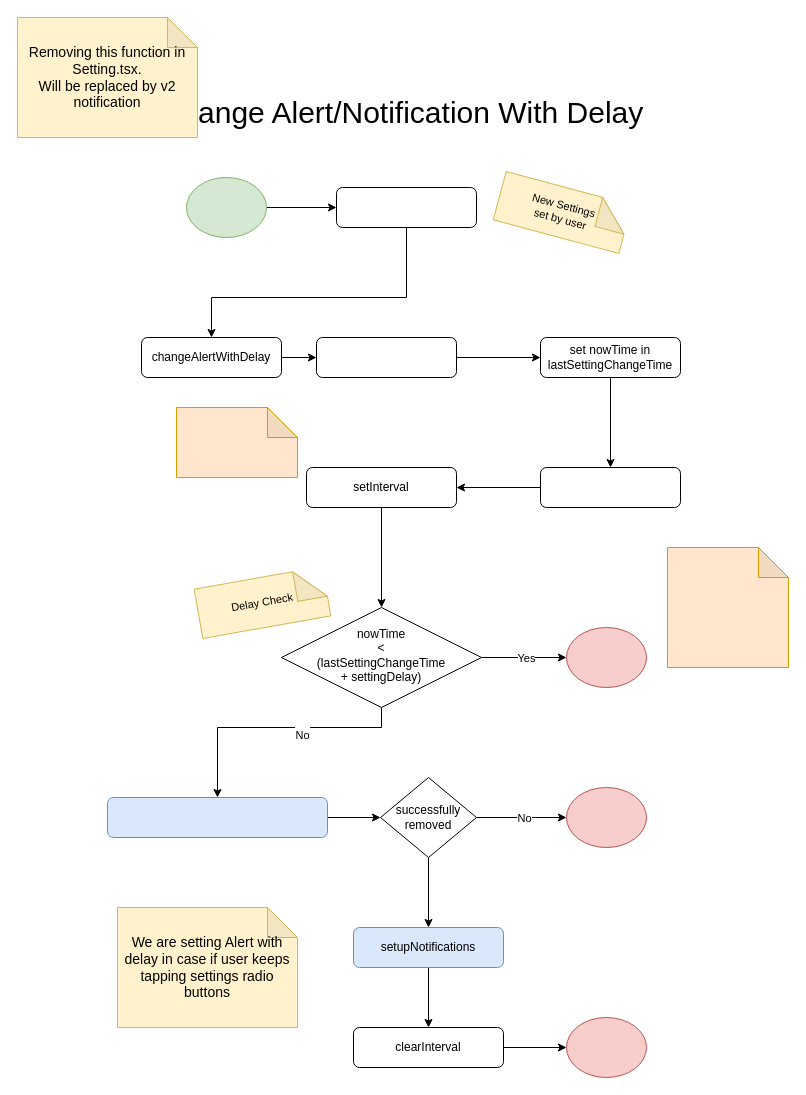
Some shapes in this 806 by 1095 pixel diagram are drawn without their labels. The shapes that lost their labels are listed below. From the top down, each one's box as (x1, y1, x2, y2) in pixels, then its label:
(336, 186, 476, 228): newSettings
(316, 336, 456, 378): storeDispatchSetting
(176, 406, 298, 478): Replace interval with debounce
(540, 466, 680, 508): getCompanyId
(666, 546, 788, 668): Check if here or on unsuccessful we need to remove interval
(106, 796, 328, 838): removeAllExistingNotificationsAsync
